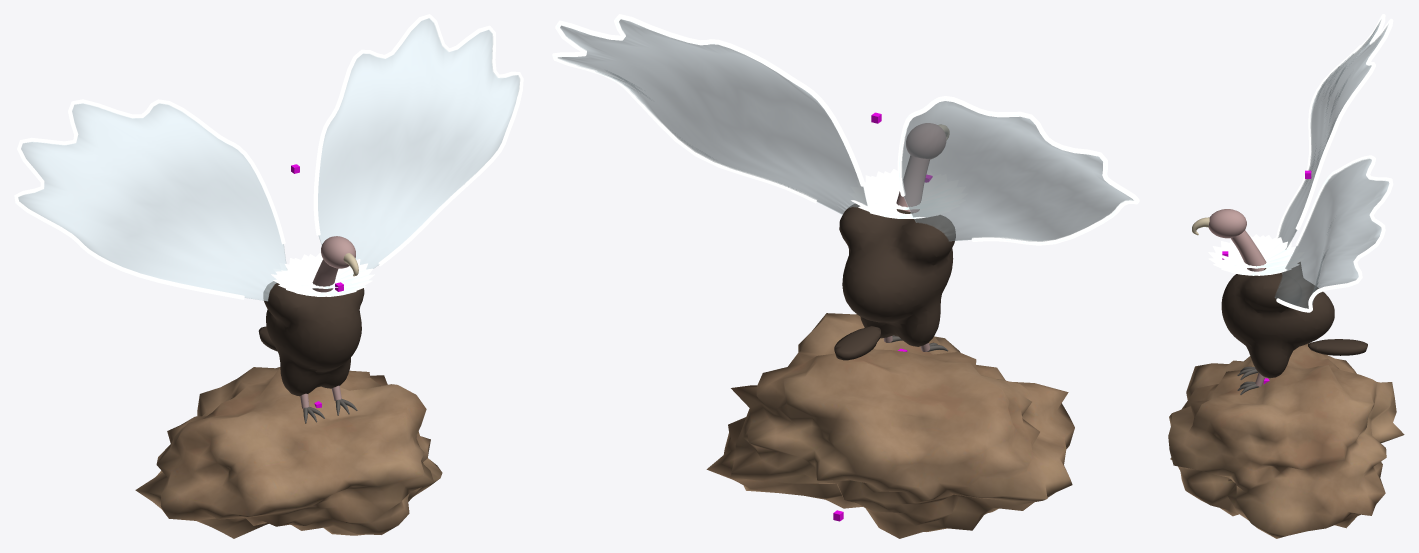
File: 06_avvoltoio_miraggio.glb
The picture shows the model from 3 angles, left to right: view 1: azimuth 30°, elevation 25°; view 2: azimuth 150°, elevation 25°; view 3: azimuth 270°, elevation 25°; orthographic projection. The views are drawn at different scales.
Parts seen in each view (by area): view 1: Avvoltoio__Roccia, Avvoltoio__Ali_Miraggio__Ala_L, Avvoltoio__Ali_Miraggio__Ala_R, Avvoltoio__Piumaggio, Avvoltoio__Bordo_Ali__Ala_L, Avvoltoio__Bordo_Ali__Ala_R, Avvoltoio__Collare_Luce, Avvoltoio__Pelle_Nuda; view 2: Avvoltoio__Roccia, Avvoltoio__Ali_Miraggio__Ala_R, Avvoltoio__Ali_Miraggio__Ala_L, Avvoltoio__Piumaggio, Avvoltoio__Bordo_Ali__Ala_R, Avvoltoio__Collare_Luce, Avvoltoio__Bordo_Ali__Ala_L, Avvoltoio__Pelle_Nuda; view 3: Avvoltoio__Roccia, Avvoltoio__Piumaggio, Avvoltoio__Ali_Miraggio__Ala_R, Avvoltoio__Ali_Miraggio__Ala_L, Avvoltoio__Bordo_Ali__Ala_L, Avvoltoio__Collare_Luce, Avvoltoio__Bordo_Ali__Ala_R, Avvoltoio__Pelle_Nuda, Avvoltoio__Artigli.
Part boxes in pixels (x1,y1,x2,y2): Avvoltoio__Roccia: (135, 367, 442, 538); Avvoltoio__Ali_Miraggio__Ala_L: (18, 103, 287, 301); Avvoltoio__Ali_Miraggio__Ala_R: (318, 18, 519, 269); Avvoltoio__Piumaggio: (258, 281, 364, 396); Avvoltoio__Bordo_Ali__Ala_L: (14, 99, 285, 299); Avvoltoio__Bordo_Ali__Ala_R: (313, 14, 523, 266); Avvoltoio__Collare_Luce: (271, 253, 374, 296); Avvoltoio__Pelle_Nuda: (300, 236, 355, 408); Avvoltoio__Roccia: (706, 313, 1074, 538); Avvoltoio__Ali_Miraggio__Ala_R: (558, 19, 867, 214); Avvoltoio__Ali_Miraggio__Ala_L: (902, 101, 1133, 241); Avvoltoio__Piumaggio: (834, 203, 955, 360); Avvoltoio__Bordo_Ali__Ala_R: (552, 14, 865, 203); Avvoltoio__Collare_Luce: (849, 169, 967, 218); Avvoltoio__Bordo_Ali__Ala_L: (897, 96, 1139, 245); Avvoltoio__Pelle_Nuda: (883, 123, 945, 351); Avvoltoio__Roccia: (1168, 343, 1404, 538); Avvoltoio__Piumaggio: (1221, 262, 1367, 378); Avvoltoio__Ali_Miraggio__Ala_R: (1275, 158, 1389, 308); Avvoltoio__Ali_Miraggio__Ala_L: (1278, 20, 1387, 249); Avvoltoio__Bordo_Ali__Ala_L: (1276, 14, 1393, 238); Avvoltoio__Collare_Luce: (1208, 234, 1304, 275); Avvoltoio__Bordo_Ali__Ala_R: (1276, 155, 1393, 312); Avvoltoio__Pelle_Nuda: (1208, 209, 1266, 386); Avvoltoio__Artigli: (1237, 366, 1258, 394).
Size of the model in its own units: 7.99 by 6.35 by 3.43.
10 materials, 1 textured.
